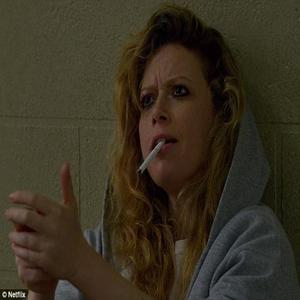cigarette: (132, 137, 163, 177)
